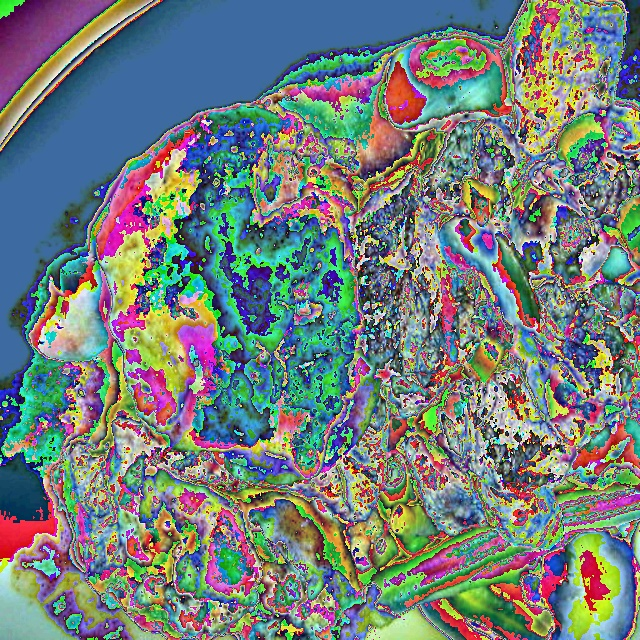background: (53, 0, 639, 640)
